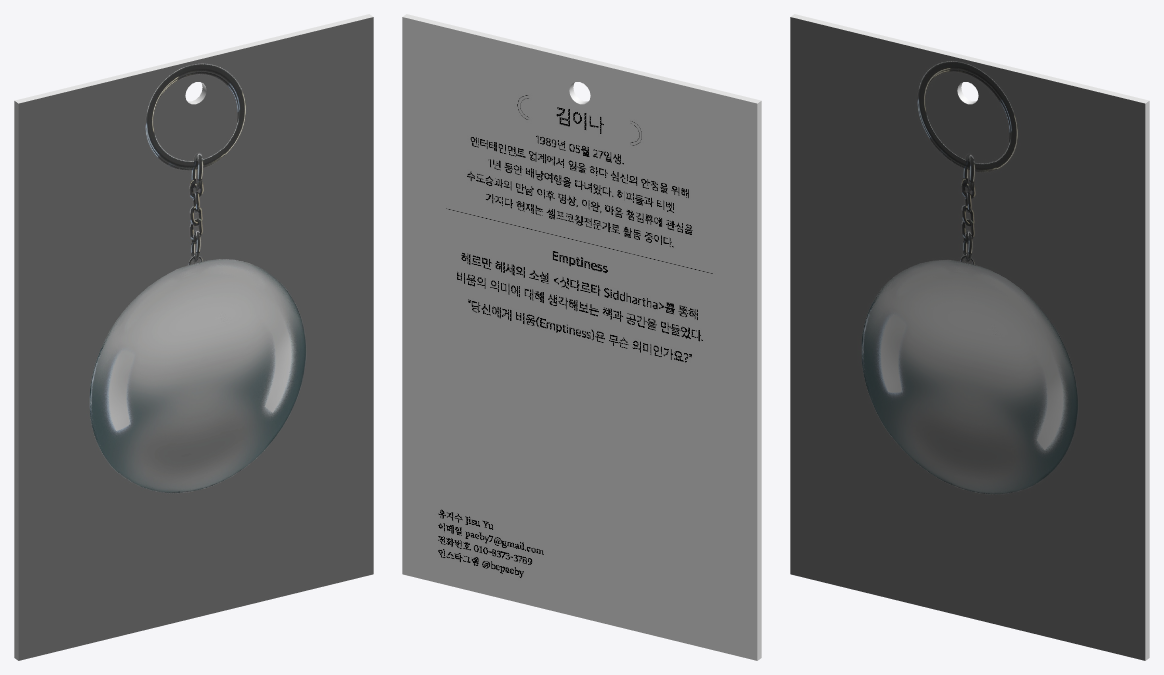
The model's file is leaflet.glb.
3 renders of one model, left to right at view 1: azimuth 30°, elevation 25°; view 2: azimuth 150°, elevation 25°; view 3: azimuth 330°, elevation 25°, orthographic.
Visible parts, largest first — view 1: Boole-Mat, Boole-Mat.1; view 2: Boole-Mat.8, Boole-Mat.1; view 3: Boole-Mat, Boole-Mat.1.
Part boxes in pixels (left/top/right/bottom): Boole-Mat: left=18, top=17, right=373, bottom=660; Boole-Mat.1: left=14, top=14, right=372, bottom=660; Boole-Mat.8: left=402, top=17, right=757, bottom=660; Boole-Mat.1: left=403, top=14, right=761, bottom=660; Boole-Mat: left=790, top=17, right=1145, bottom=660; Boole-Mat.1: left=791, top=14, right=1149, bottom=660.
Size of the model in its own units: 100 by 150 by 2.
3 materials, 2 textured.
